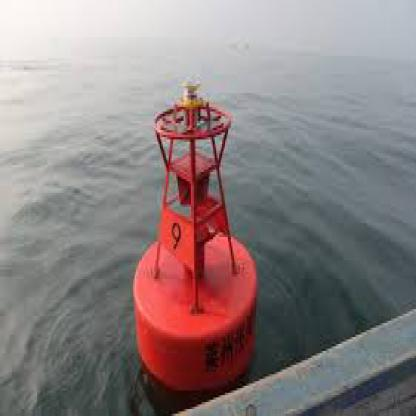buoy: (121, 72, 268, 404)
